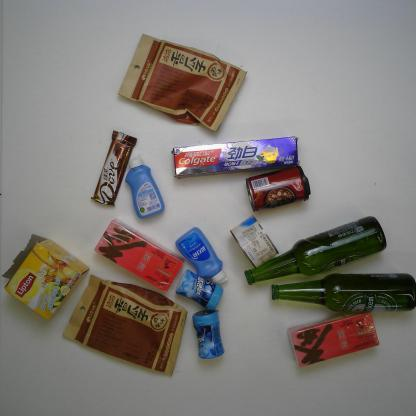Alcohol: (245, 215, 386, 286), (270, 272, 390, 312)
Canned Food: (247, 166, 311, 212), (230, 215, 280, 270)
Chocolate: (91, 129, 138, 206)
Dried Food: (62, 275, 187, 378), (118, 32, 248, 130)
Gum: (176, 270, 226, 312), (190, 310, 226, 358)
Instant Drink: (1, 235, 90, 320), (93, 218, 186, 292), (289, 313, 380, 367)
Personal Hygiene: (172, 136, 301, 180), (175, 226, 229, 285), (125, 155, 165, 219)
